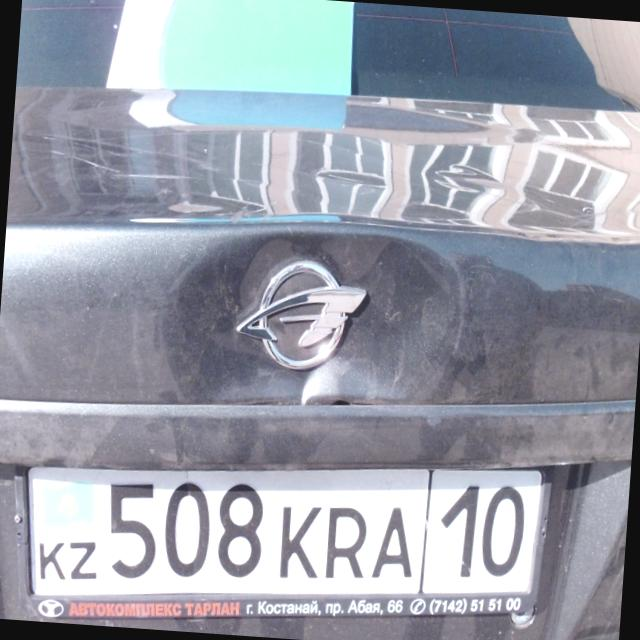Cabossage: (151, 225, 475, 425)
Rayure: (42, 125, 217, 189), (609, 548, 625, 620)
